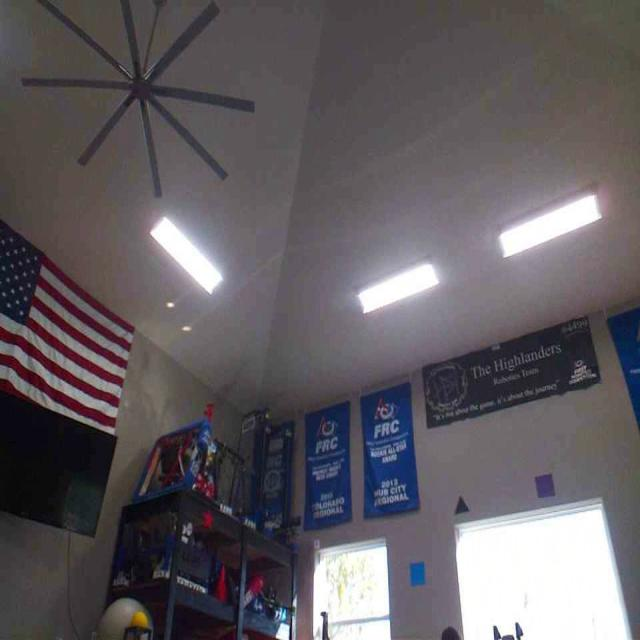square_blue: (407, 560, 427, 587)
square_purple: (532, 470, 556, 496)
star_red: (202, 509, 213, 528)
triangle_black: (453, 492, 468, 512)
